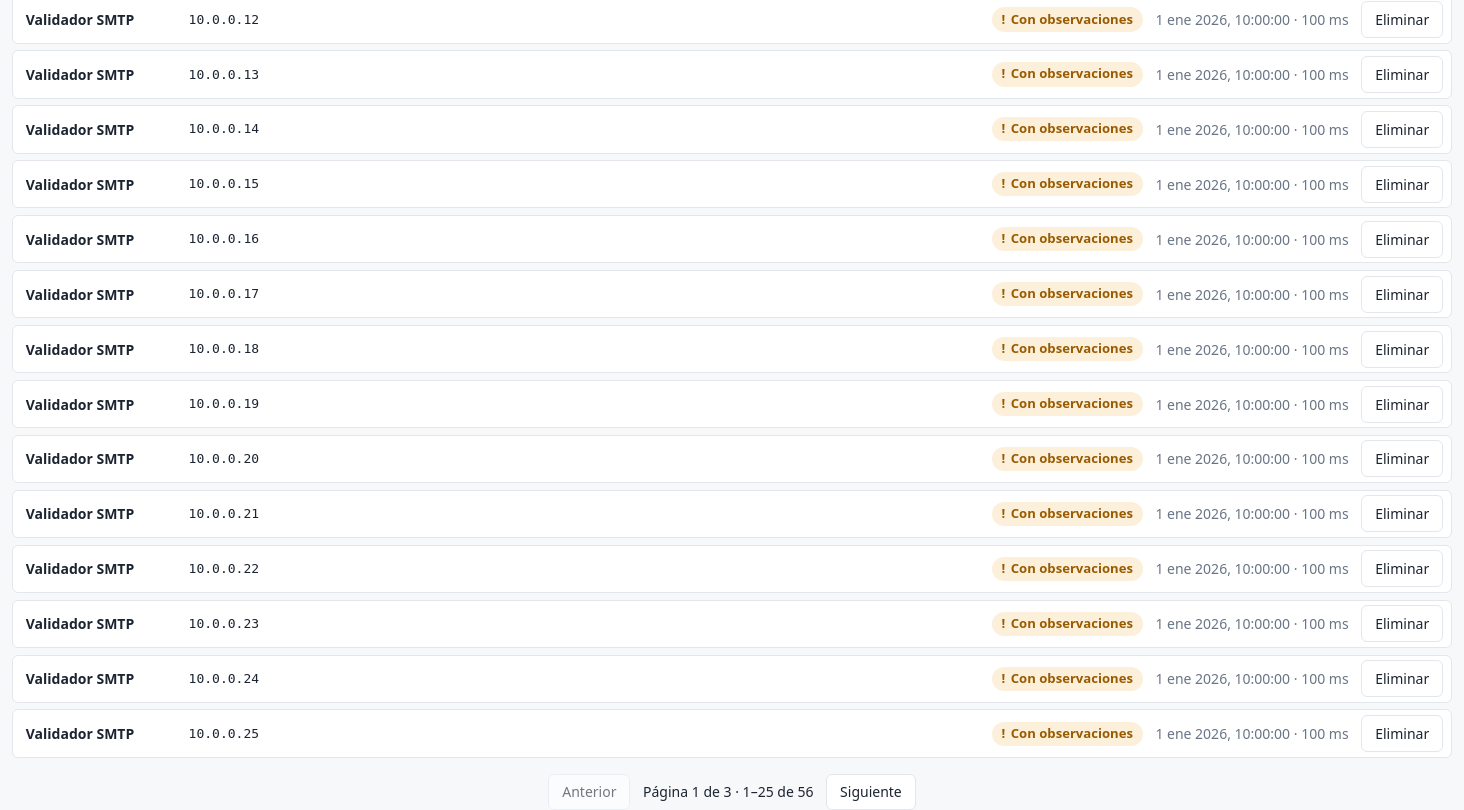
Test: paginación › cambiar de filtro vuelve a la primera página
(page scrolled)
Click the button "Siguiente" at [871, 792], box [826,774,916,809]
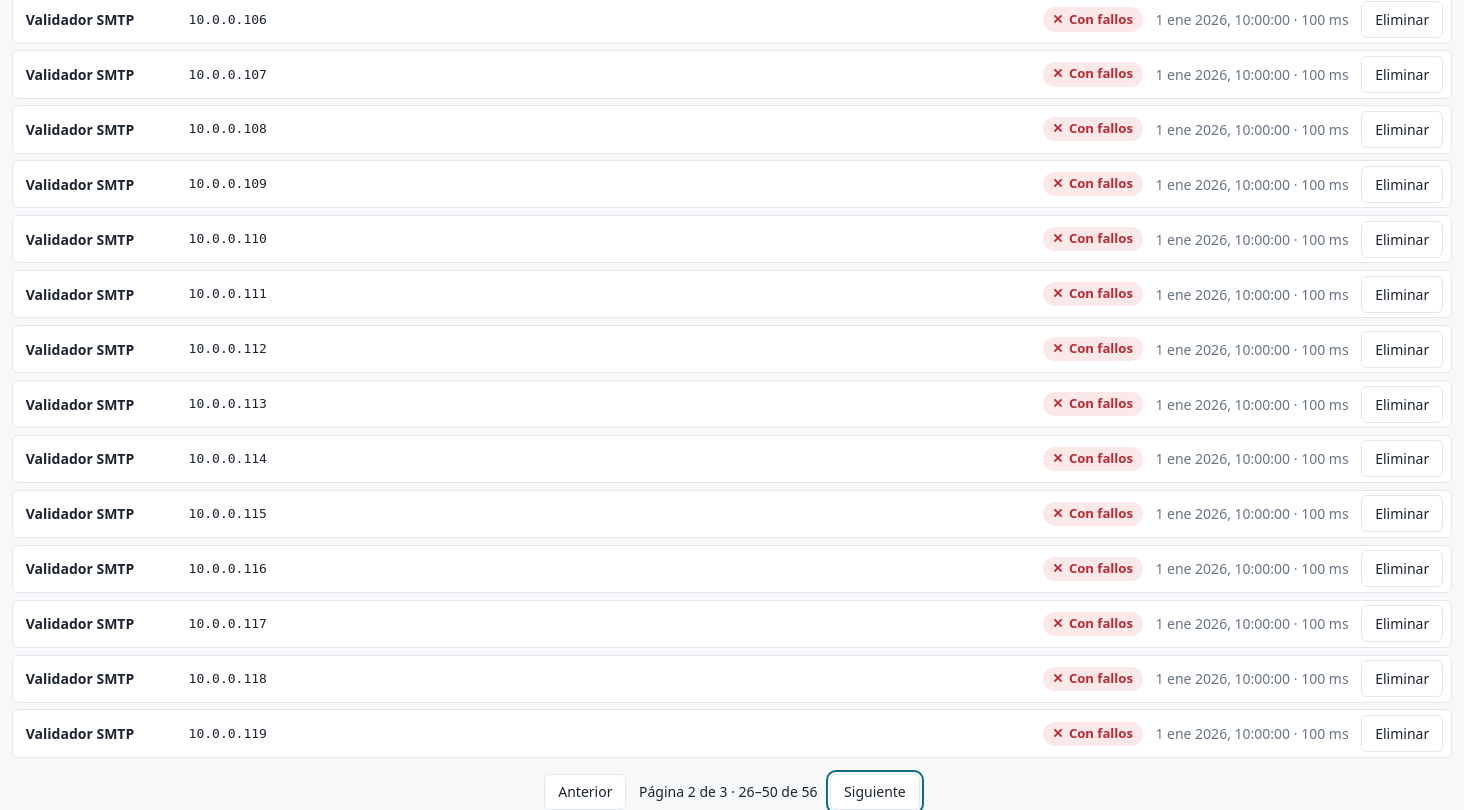
Click the button "Siguiente" at [875, 792], box [830,774,920,809]
(page scrolled)
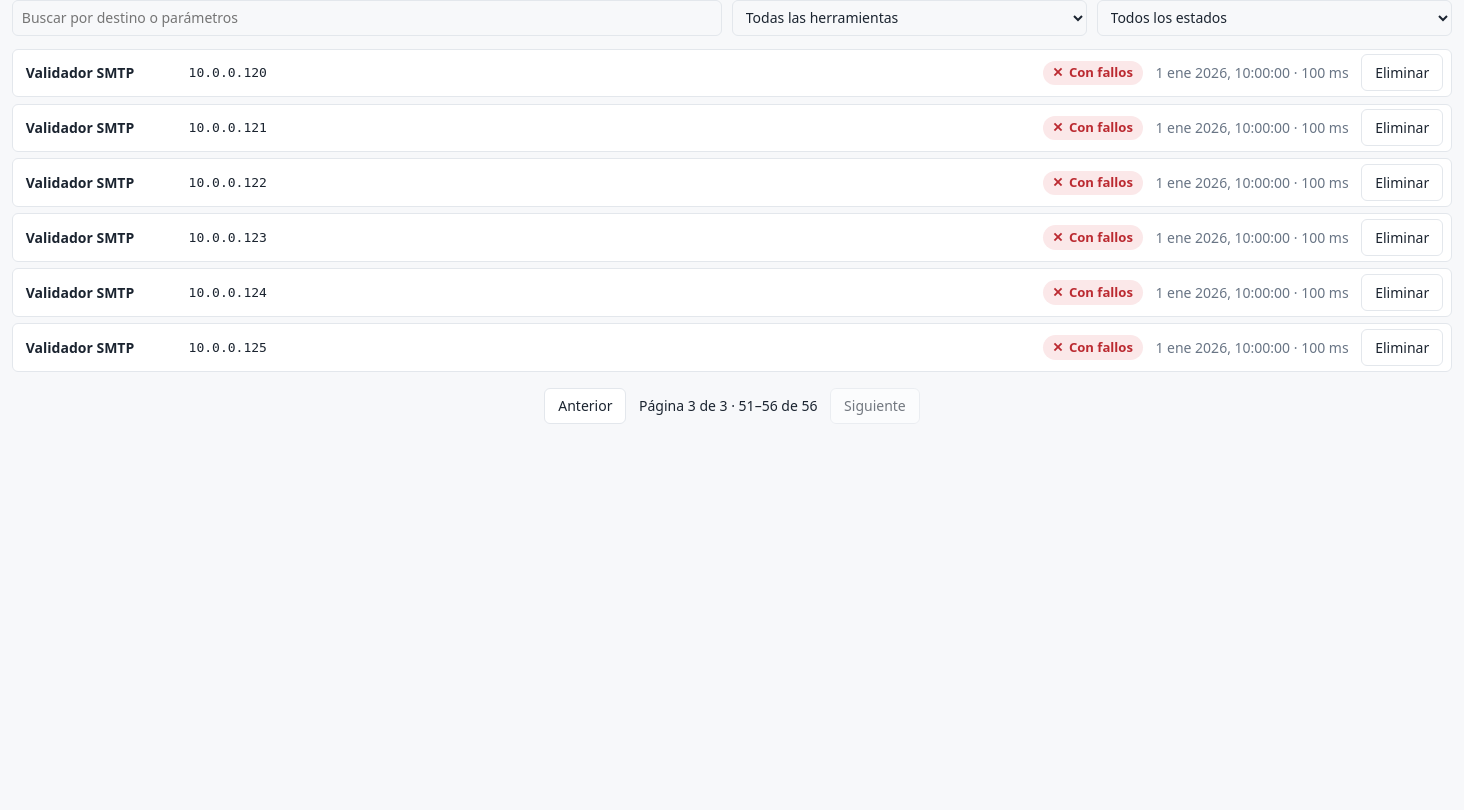
Expected: the navigation bar named "Páginas del historial" shows "Página 3 de 3", [544,388,920,424]
Select "Con fallos" in the dropdown named "Filtrar por estado" at [1274, 18], box [1097,0,1452,36]
(page scrolled)
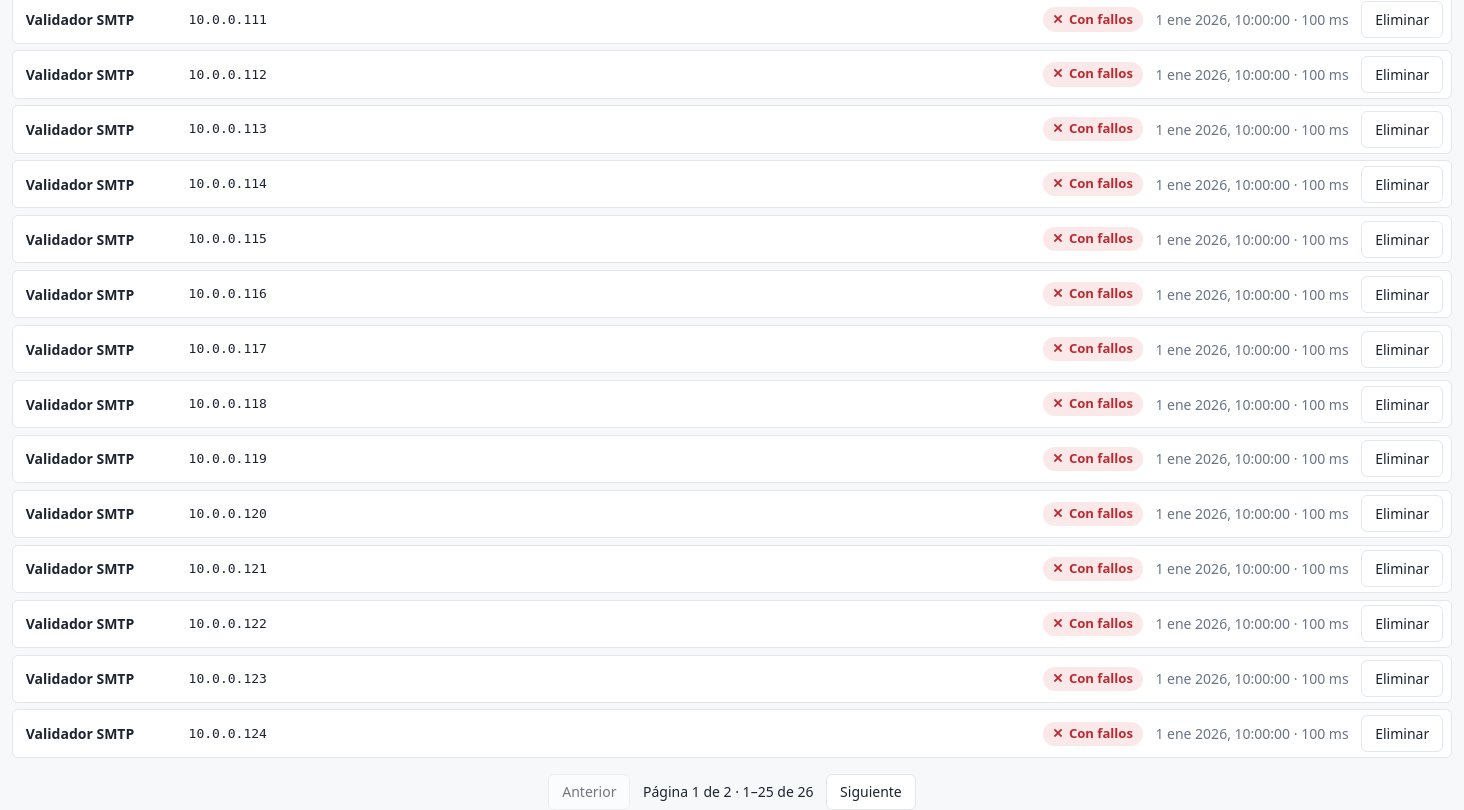
Expected: the navigation bar named "Páginas del historial" shows "Página 1 de 2", [548,774,916,809]
